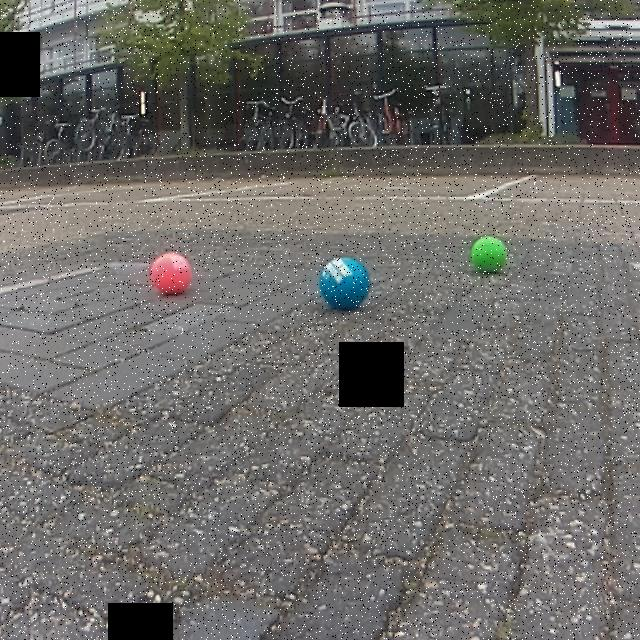ball: (316, 254, 374, 313), (148, 248, 196, 297), (469, 234, 510, 275)
